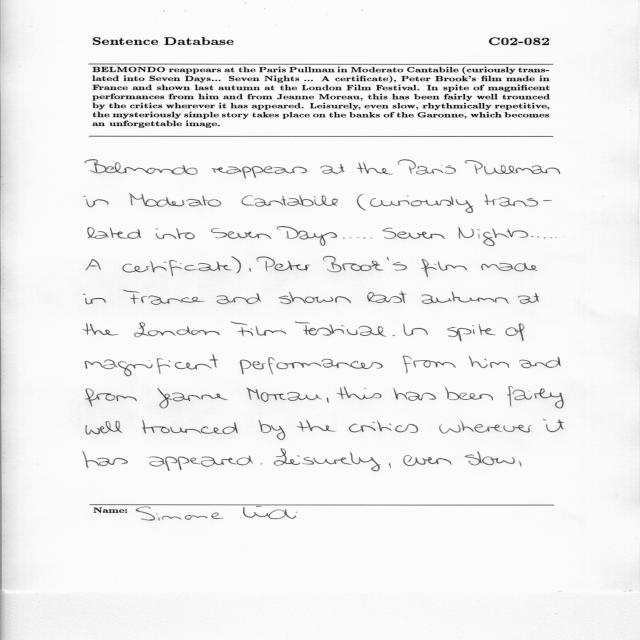word: (85, 355, 219, 377), (240, 357, 383, 375), (274, 449, 380, 472), (370, 196, 474, 213), (123, 260, 233, 276), (85, 160, 198, 175), (149, 456, 253, 471), (157, 388, 228, 409), (295, 322, 387, 337), (323, 257, 407, 273), (142, 420, 238, 434), (465, 160, 560, 174), (458, 227, 528, 246), (507, 386, 564, 409), (134, 323, 220, 338), (211, 166, 307, 179), (123, 290, 204, 305), (129, 194, 222, 207), (277, 226, 337, 246), (439, 421, 531, 434), (241, 195, 338, 207), (246, 387, 322, 402), (422, 291, 509, 304), (403, 356, 456, 374), (86, 389, 137, 407), (349, 420, 418, 433), (484, 194, 552, 207), (278, 292, 351, 304), (398, 160, 456, 175), (447, 325, 496, 342), (421, 259, 467, 277), (257, 256, 311, 271), (231, 322, 286, 336), (83, 451, 128, 468), (464, 452, 515, 466), (383, 228, 446, 239), (211, 228, 272, 239), (88, 227, 141, 239), (445, 388, 493, 401), (337, 387, 382, 400), (393, 388, 436, 401), (259, 420, 286, 440), (403, 455, 452, 466), (217, 293, 262, 304), (468, 356, 509, 368), (367, 291, 406, 303), (83, 323, 119, 336), (86, 421, 122, 434), (297, 420, 336, 432), (519, 357, 561, 368), (481, 263, 538, 271), (356, 163, 393, 175), (155, 228, 195, 239), (506, 323, 525, 341), (403, 324, 428, 336), (84, 196, 109, 207), (543, 420, 565, 432), (320, 164, 345, 174), (518, 293, 539, 304), (84, 294, 106, 304), (357, 194, 367, 211), (231, 257, 241, 274), (86, 259, 101, 270), (343, 237, 372, 239), (532, 236, 546, 238), (519, 460, 522, 467), (327, 398, 329, 404), (389, 463, 391, 468), (249, 268, 252, 271), (393, 335, 395, 336), (261, 463, 262, 464)
